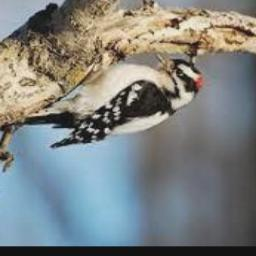Woodpecker: (0, 52, 201, 147)
